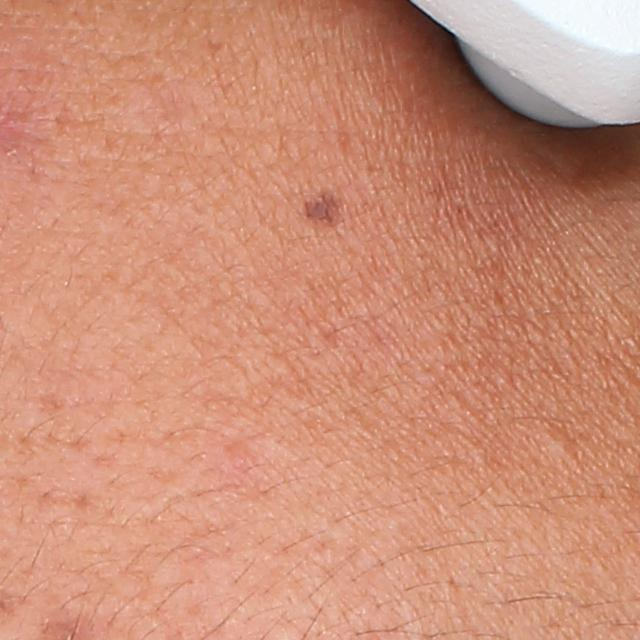comedo: (542, 427, 583, 464)
